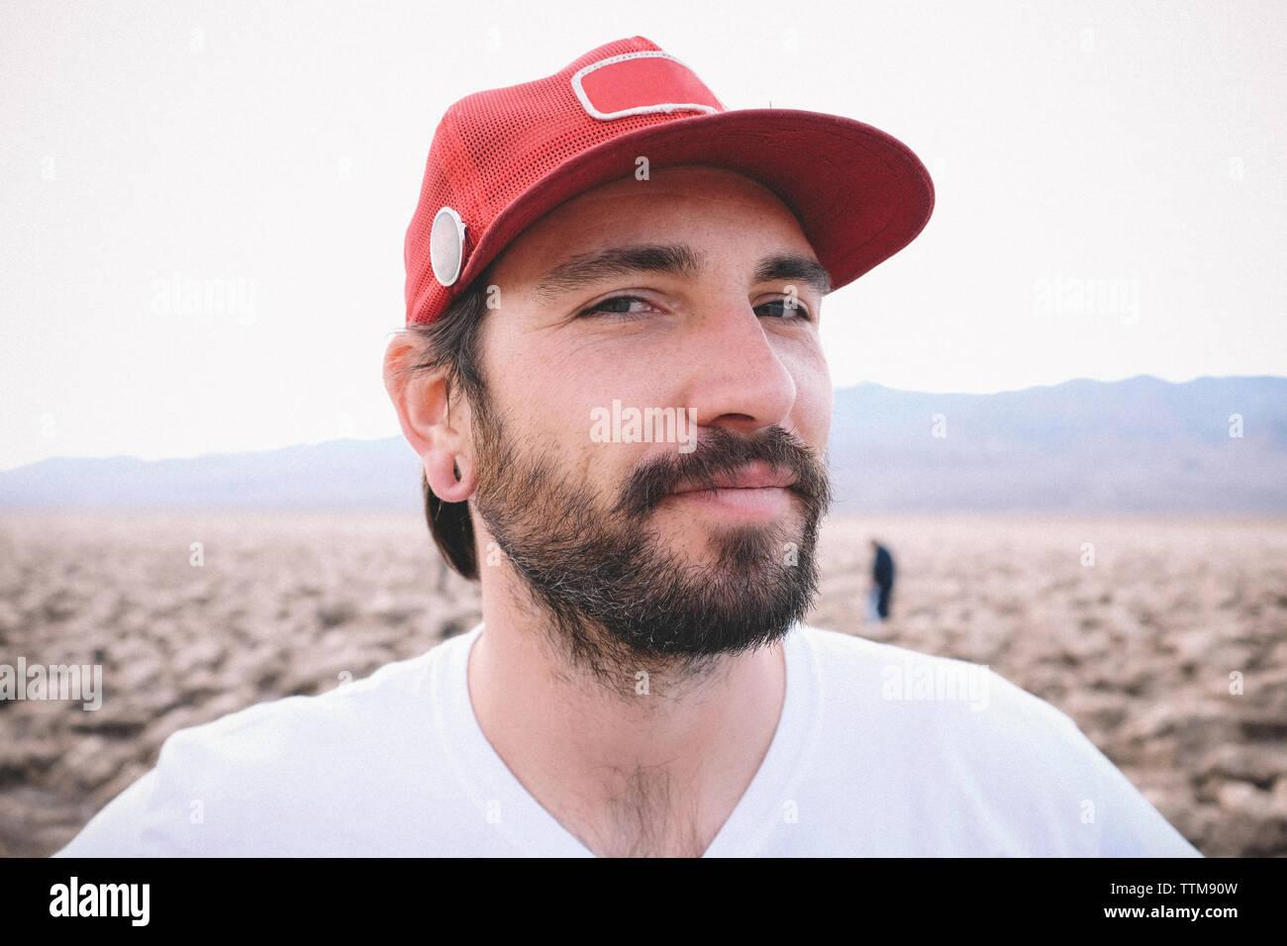cap: (374, 3, 980, 305)
